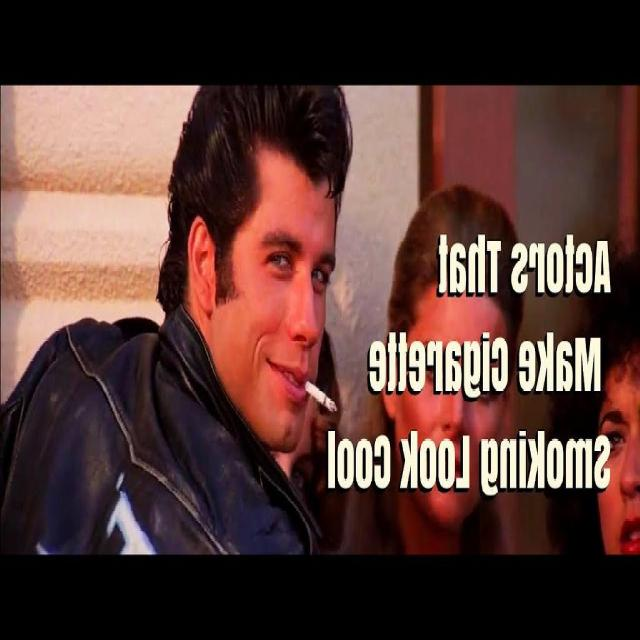smoking: (181, 94, 338, 426)
